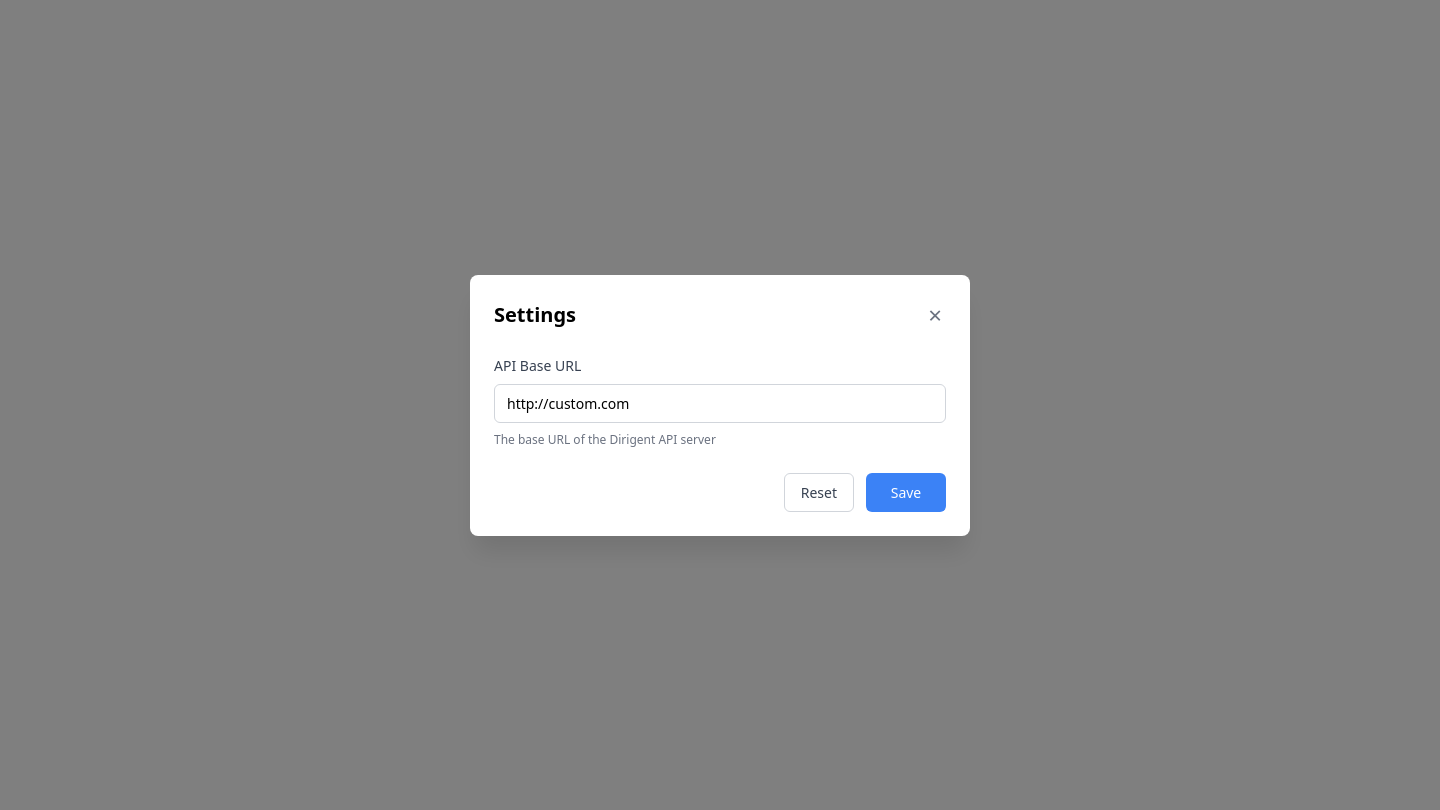
Scenario: SettingsPanel › should reset URL to default on reset
What coordinates should you click on to do the following:
click the button "Reset"
I would click on:
 (819, 492)
Its box is [784,472,854,512].
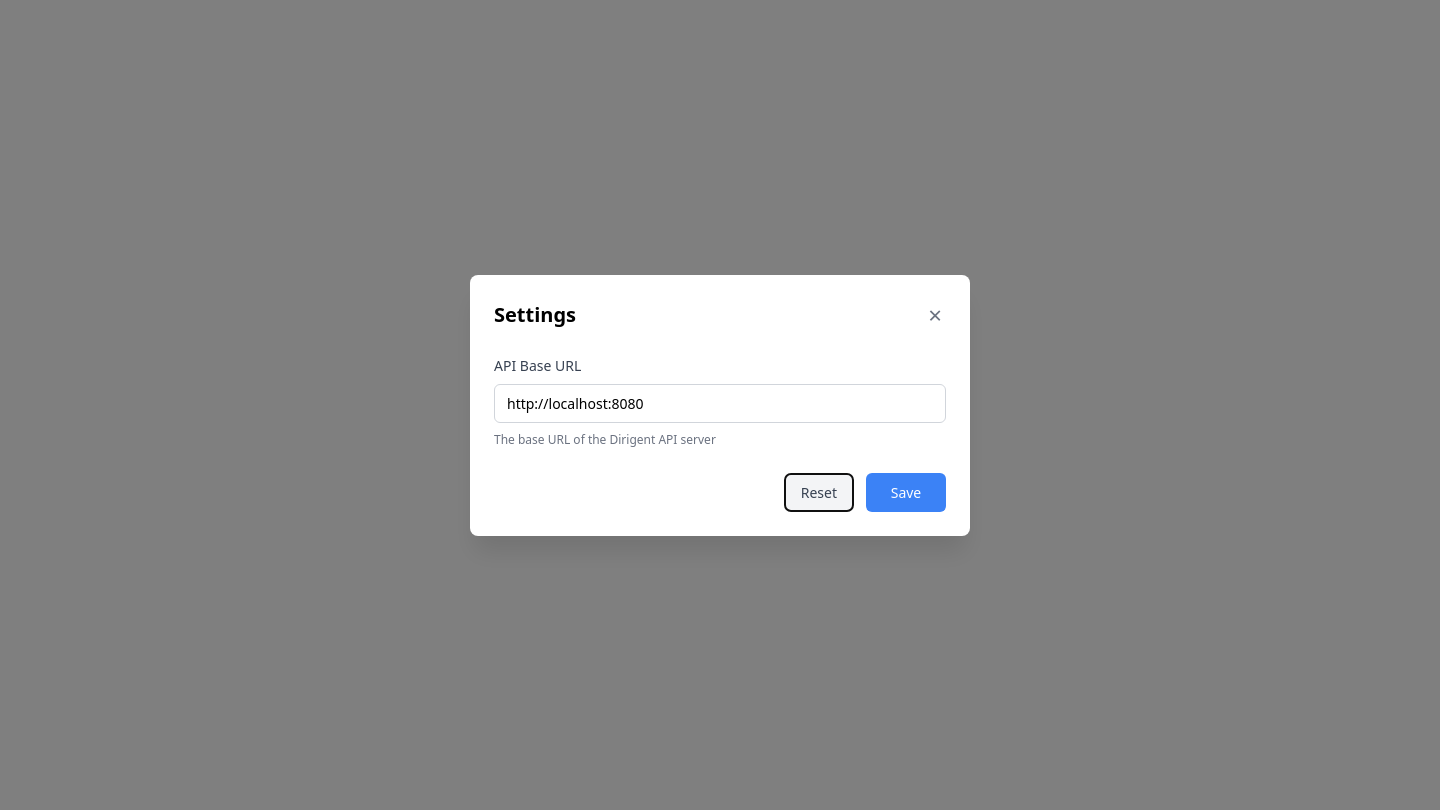
Check: the field labelled "API Base URL" holds "http://localhost:8080", box [494,384,946,422]
